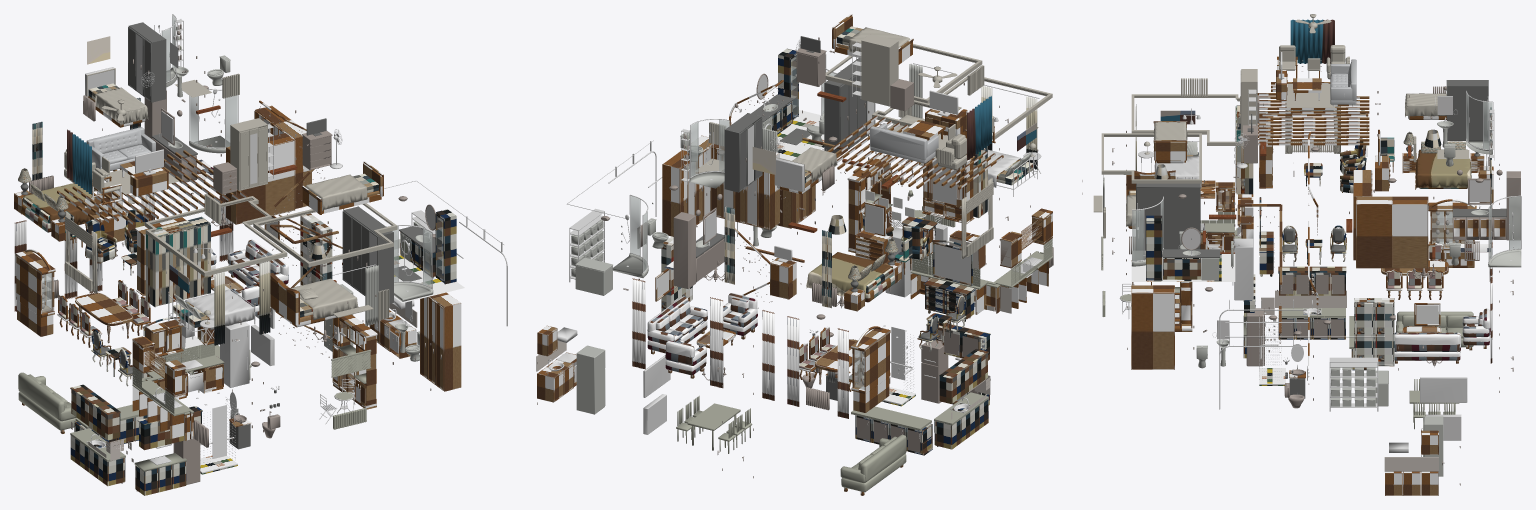
The model's file is interior.glb.
3 views of the same model, side by side, from view 1: azimuth 30°, elevation 25°; view 2: azimuth 150°, elevation 25°; view 3: azimuth 270°, elevation 25° (orthographic). The views are drawn at different scales.
Parts seen in each view (by area): view 1: interior-wood-0, interior-other-3, interior-other-5, interior-other-2, interior-metal-7, interior-other-1, interior-other-4, interior-fabric-8, interior-glass-9, interior-other-12, interior-metal-11, interior-tile-6; view 2: interior-wood-0, interior-other-3, interior-metal-7, interior-other-2, interior-fabric-8, interior-other-5, interior-other-1, interior-other-4, interior-glass-9, interior-other-12, interior-metal-11, interior-tile-6; view 3: interior-wood-0, interior-other-3, interior-other-5, interior-metal-7, interior-other-1, interior-other-4, interior-other-2, interior-fabric-8, interior-glass-9, interior-tile-6, interior-other-12, interior-wood-13.
Boxes of the visible parts, bbox=[...] form: interior-wood-0: bbox=[14, 96, 461, 440]; interior-other-3: bbox=[20, 22, 456, 495]; interior-other-5: bbox=[64, 68, 397, 324]; interior-other-2: bbox=[18, 26, 407, 471]; interior-metal-7: bbox=[85, 14, 507, 467]; interior-other-1: bbox=[21, 24, 441, 484]; interior-other-4: bbox=[166, 55, 433, 361]; interior-fabric-8: bbox=[14, 127, 288, 315]; interior-glass-9: bbox=[42, 15, 443, 347]; interior-other-12: bbox=[200, 248, 464, 474]; interior-metal-11: bbox=[212, 392, 236, 458]; interior-tile-6: bbox=[71, 303, 417, 462]; interior-wood-0: bbox=[537, 14, 1052, 495]; interior-other-3: bbox=[696, 36, 990, 455]; interior-metal-7: bbox=[548, 40, 1042, 438]; interior-other-2: bbox=[676, 26, 1053, 492]; interior-fabric-8: bbox=[632, 123, 938, 418]; interior-other-5: bbox=[657, 27, 1052, 298]; interior-other-1: bbox=[537, 37, 1053, 478]; interior-other-4: bbox=[571, 63, 1037, 414]; interior-glass-9: bbox=[630, 55, 889, 389]; interior-other-12: bbox=[777, 110, 915, 406]; interior-metal-11: bbox=[891, 326, 905, 380]; interior-tile-6: bbox=[536, 341, 990, 419]; interior-wood-0: bbox=[1126, 56, 1505, 495]; interior-other-3: bbox=[1136, 80, 1506, 398]; interior-other-5: bbox=[1093, 14, 1469, 323]; interior-metal-7: bbox=[1103, 52, 1521, 452]; interior-other-1: bbox=[1082, 60, 1520, 485]; interior-other-4: bbox=[1103, 106, 1521, 476]; interior-other-2: bbox=[1101, 105, 1491, 429]; interior-fabric-8: bbox=[1330, 59, 1492, 363]; interior-glass-9: bbox=[1132, 94, 1520, 333]; interior-tile-6: bbox=[1261, 290, 1438, 471]; interior-other-12: bbox=[1131, 254, 1289, 385]; interior-wood-13: bbox=[1203, 142, 1435, 259].
Bounding box in the file's own units: 13.23 × 12.15 × 14.56.
Materials: 14 (14 with a texture image).
